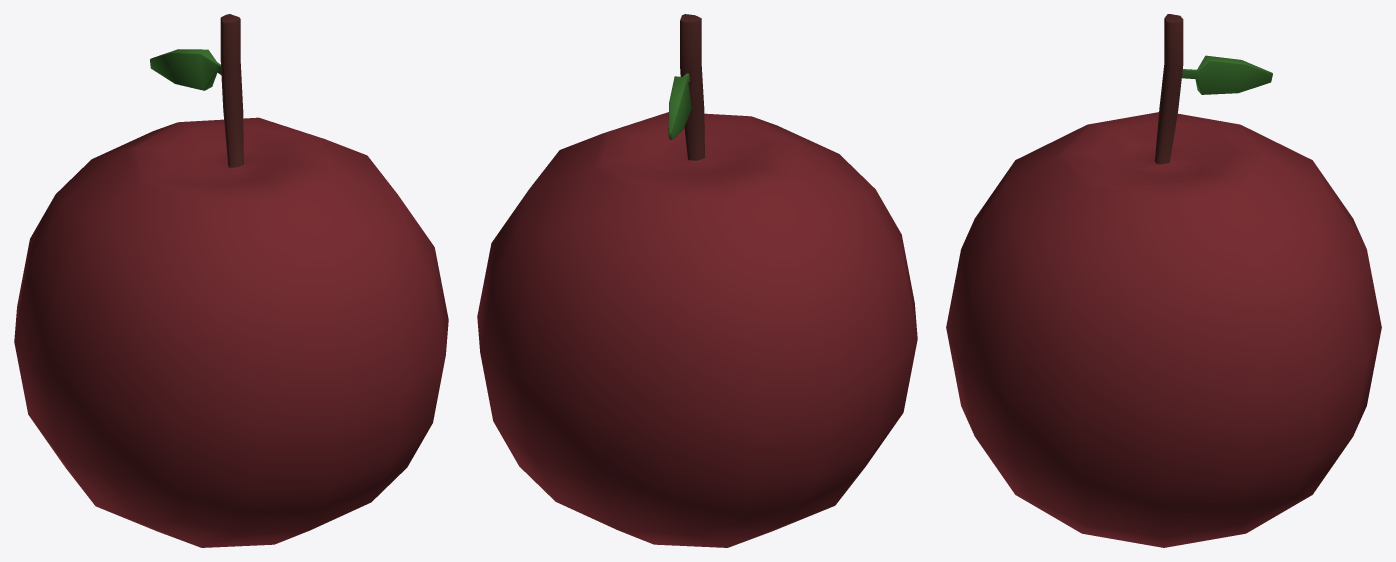
File: AppleCollect.fbx
3 renders of one model, left to right at view 1: azimuth 30°, elevation 25°; view 2: azimuth 150°, elevation 25°; view 3: azimuth 270°, elevation 25°, orthographic.
Parts seen in each view (by area): view 1: Cube; view 2: Cube; view 3: Cube.
Boxes of the visible parts, x1,y1,x2,y2 form: Cube: (14,14,448,547); Cube: (477,14,917,547); Cube: (946,14,1381,547).
Bounding box in the file's own units: 168 × 216 × 168.
